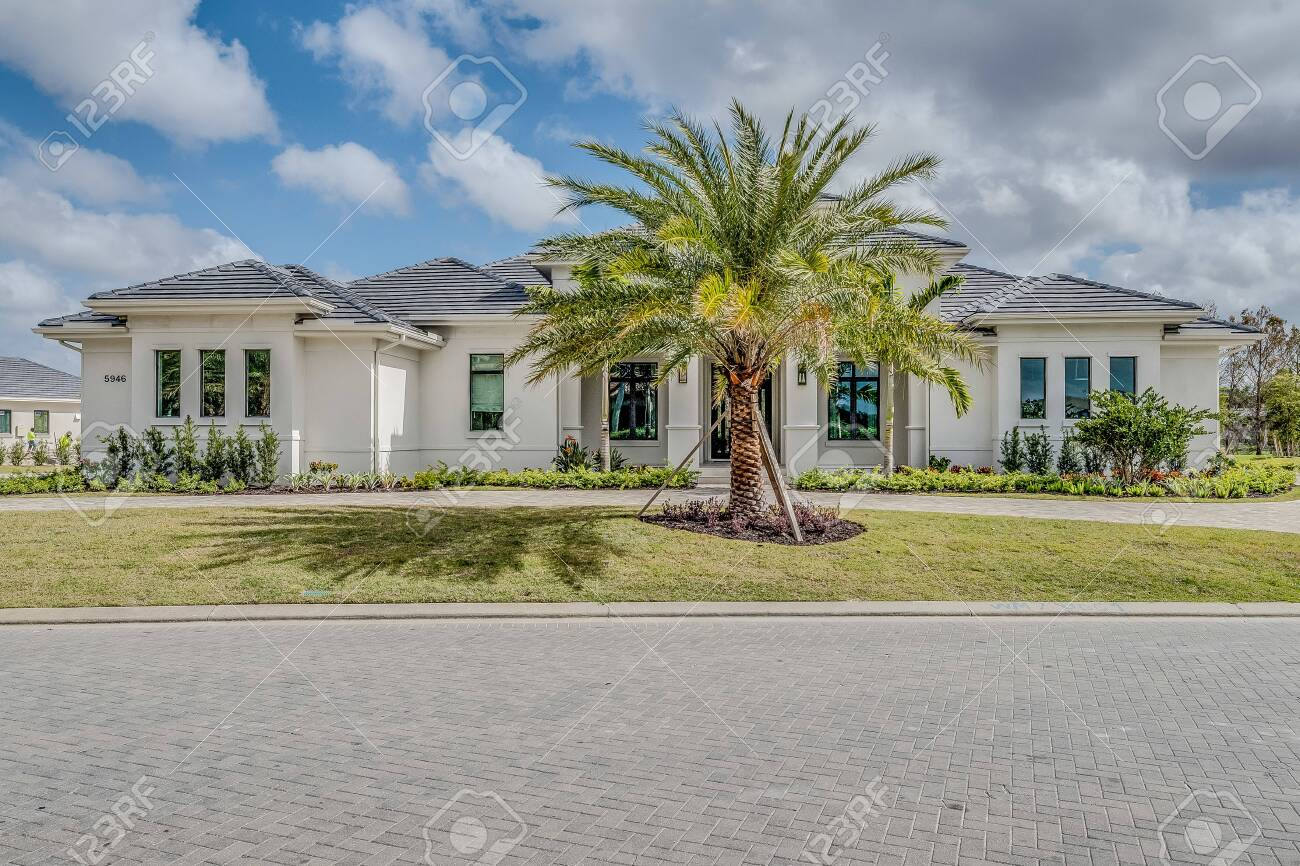tree: (521, 101, 973, 540)
